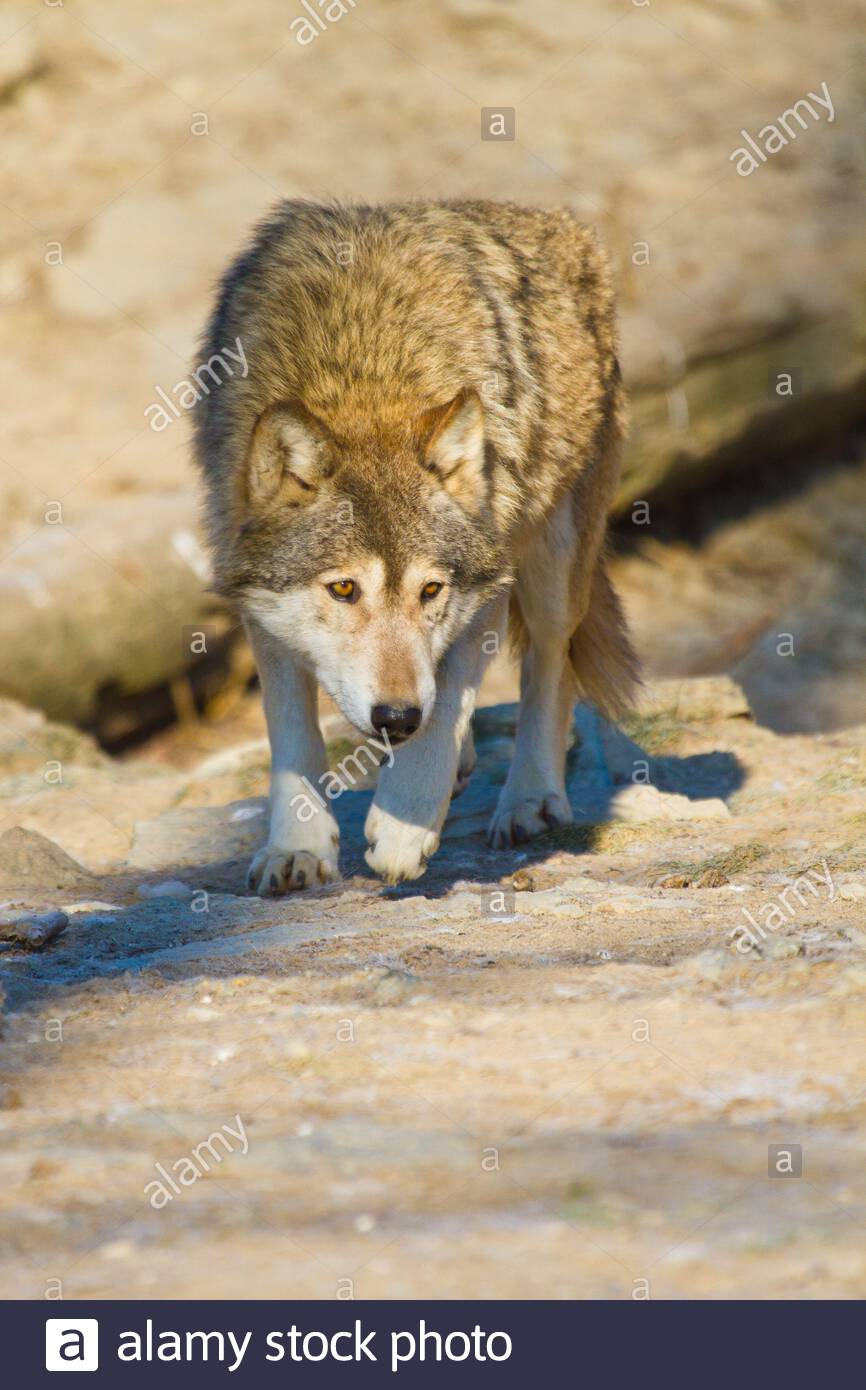Lobo: (152, 176, 691, 894)
